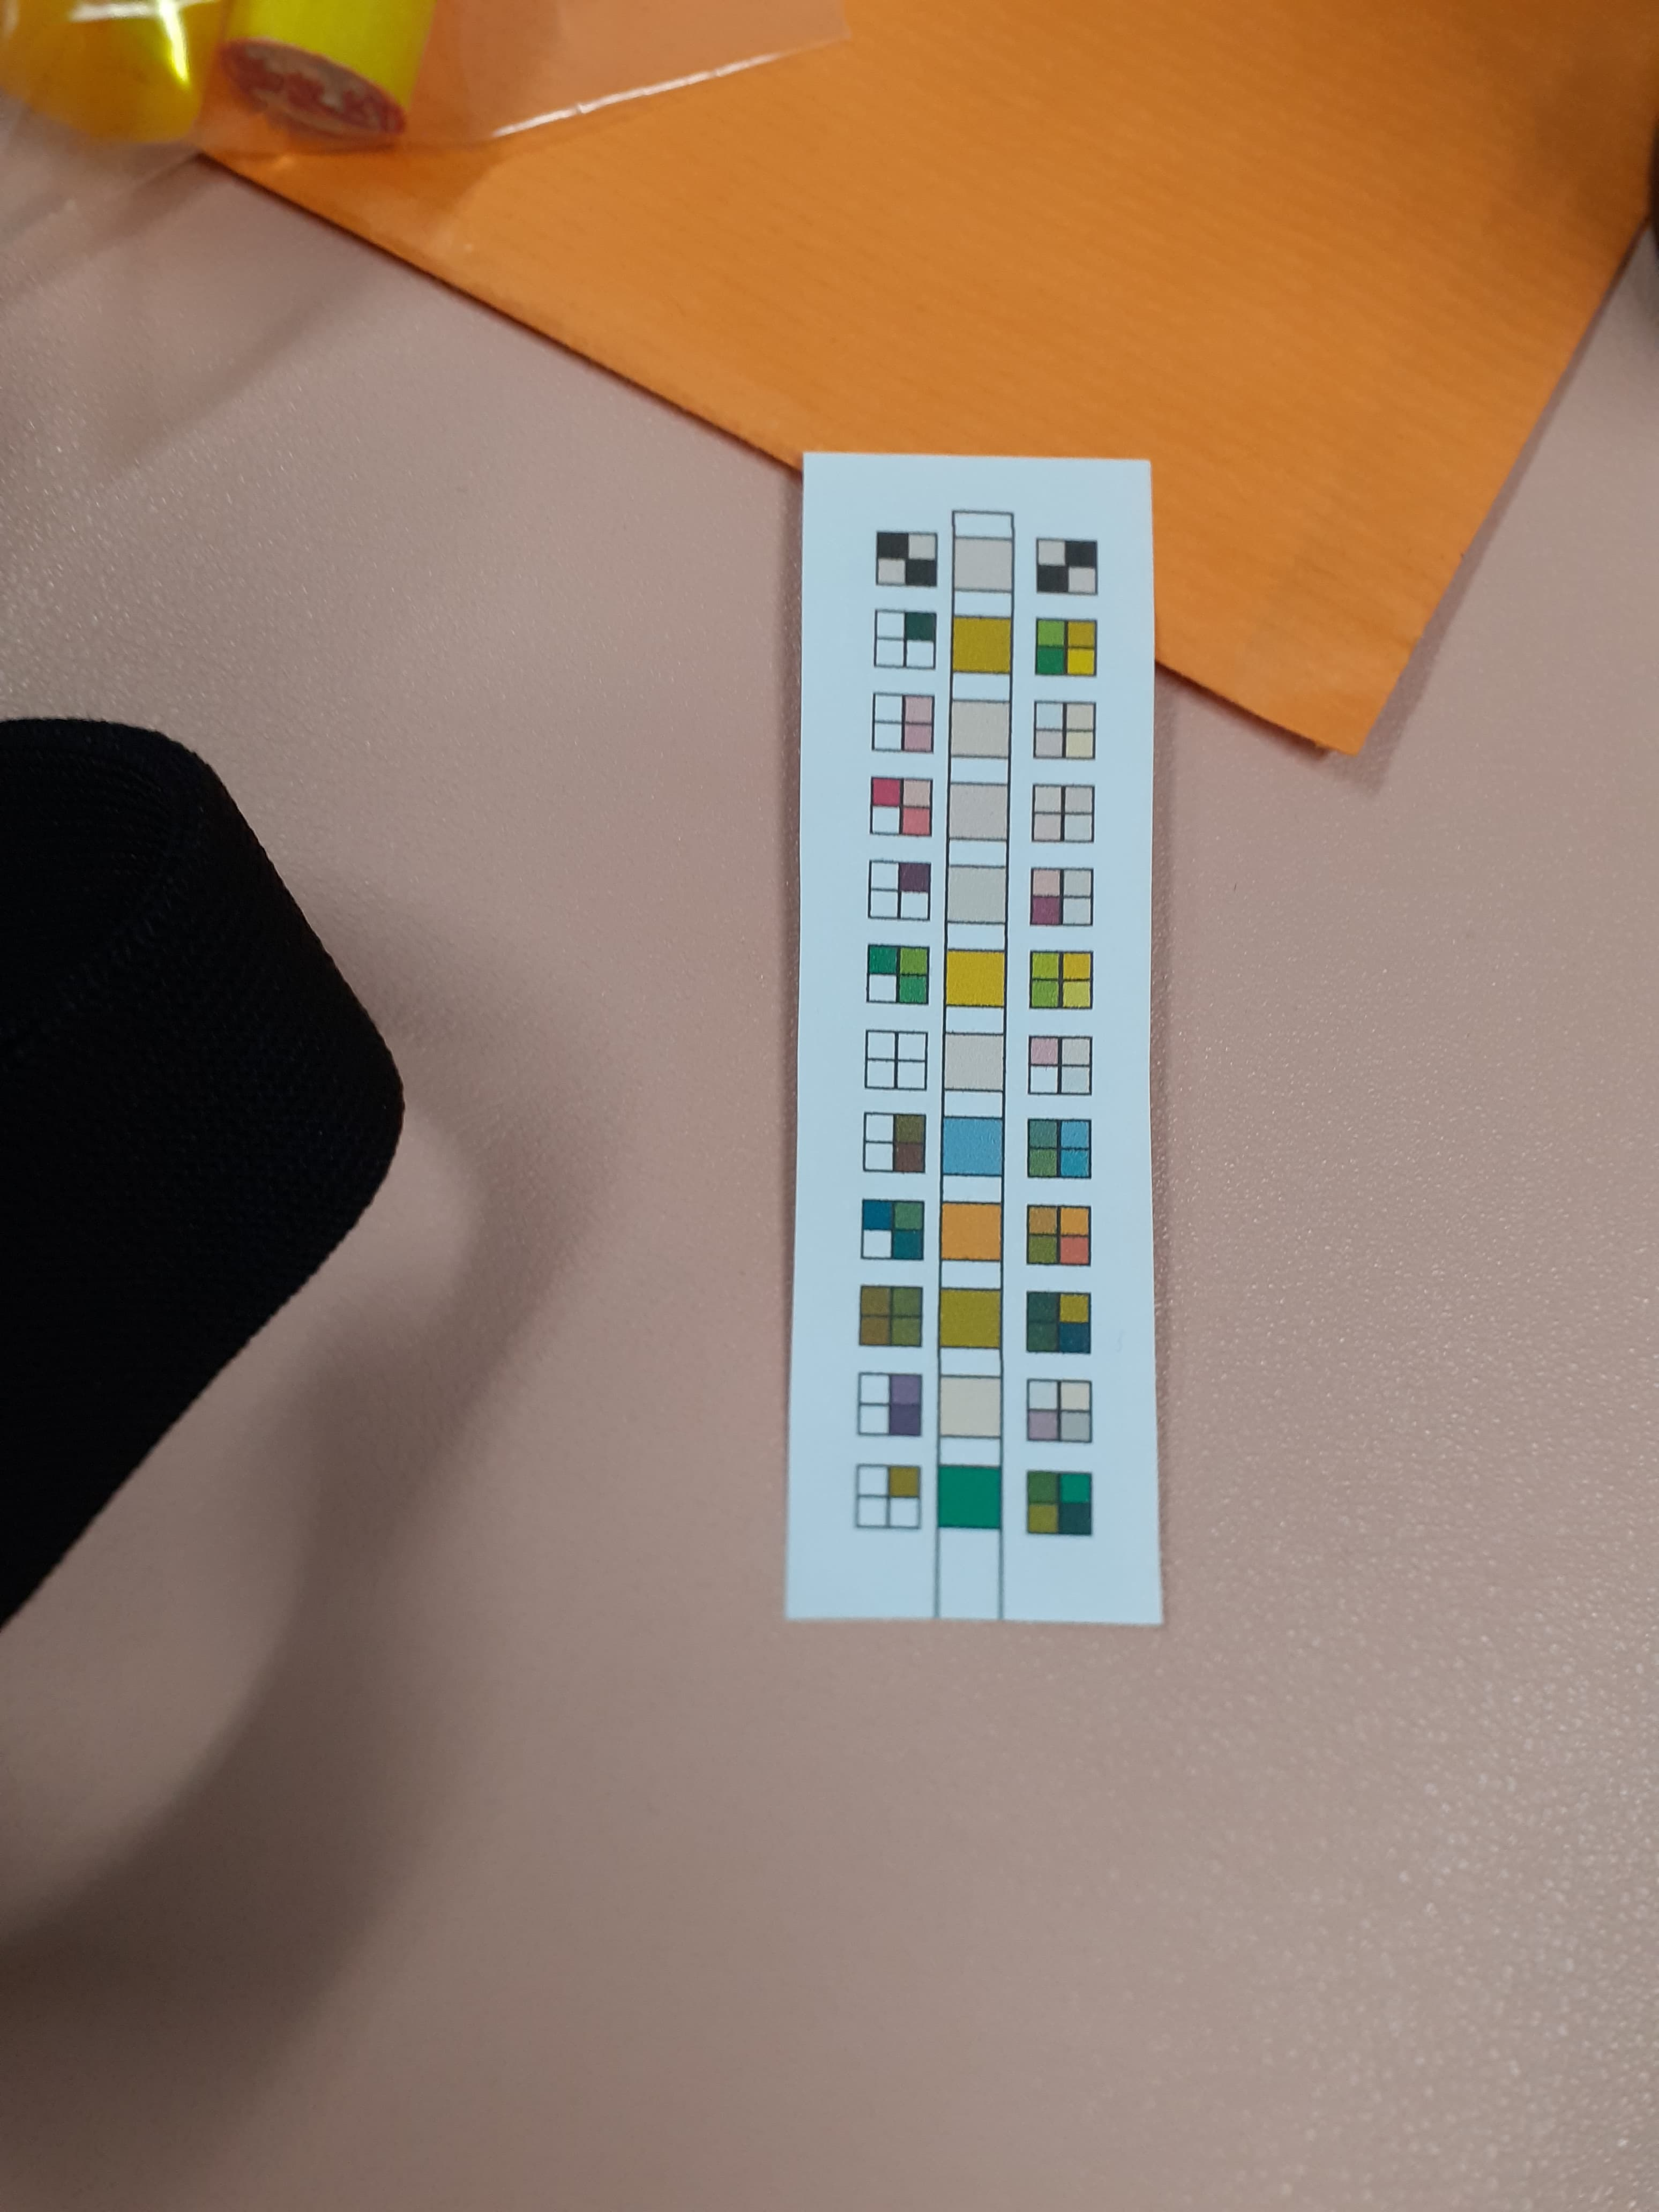tester: (796, 453, 1161, 1630)
